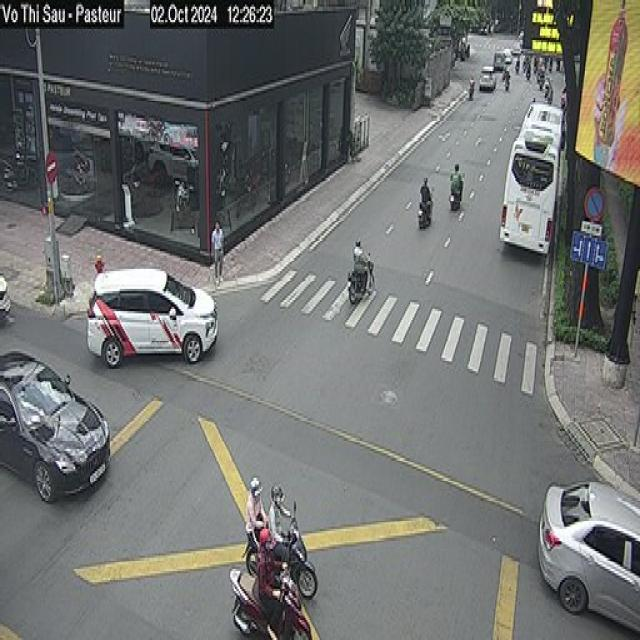bus: (496, 94, 570, 259)
car: (0, 349, 110, 502), (538, 480, 638, 636), (86, 267, 218, 369), (0, 276, 14, 329), (479, 65, 495, 91)
motorcycle: (242, 496, 318, 598), (228, 564, 314, 638), (346, 251, 374, 305)
person: (256, 526, 285, 638), (245, 476, 267, 551), (210, 218, 224, 284), (352, 238, 368, 291), (418, 176, 432, 224), (448, 162, 462, 207), (468, 76, 473, 98)
